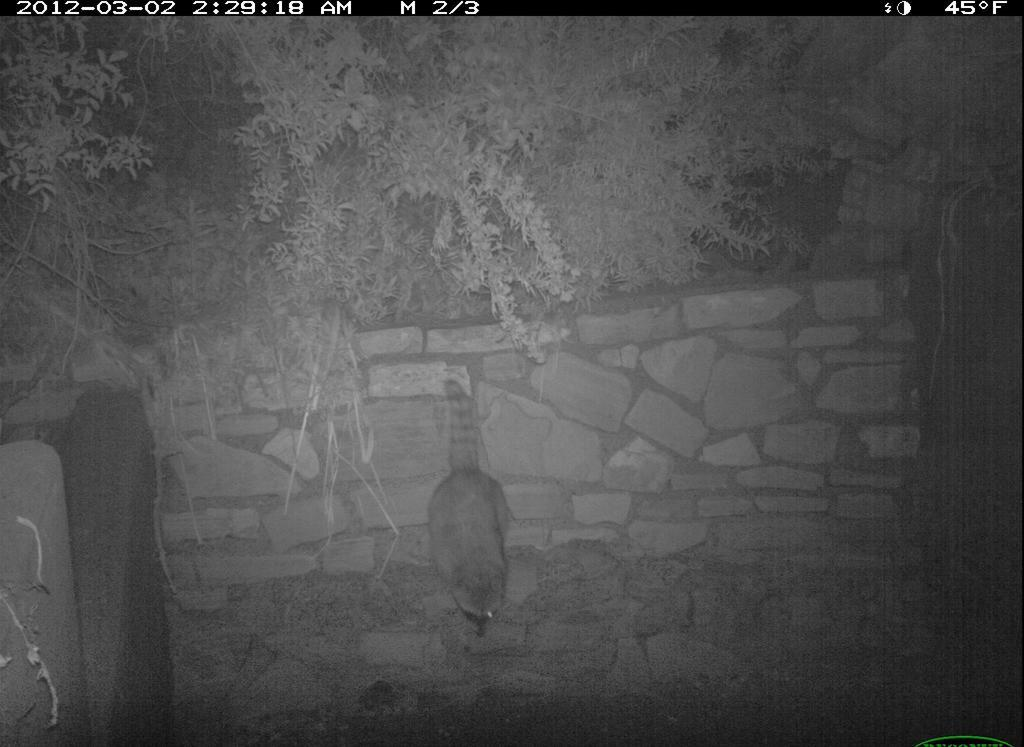raccoon: (396, 365, 542, 649)
